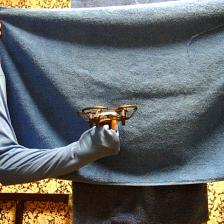drone: (77, 104, 138, 130)
